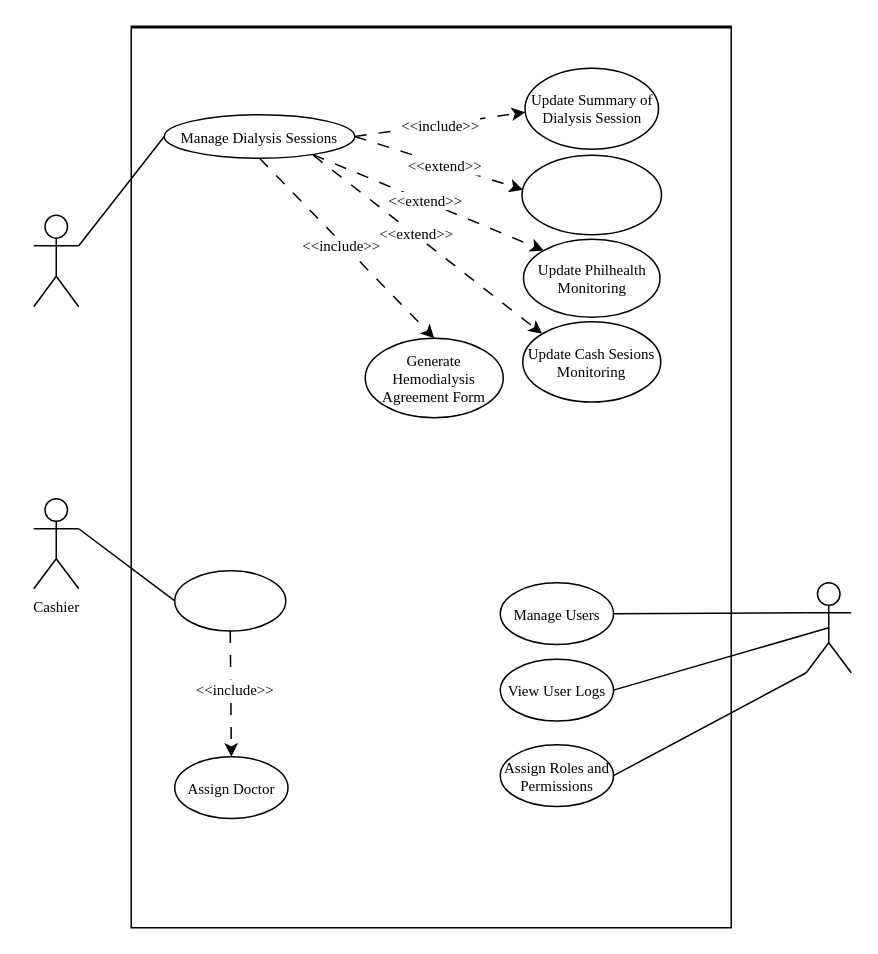
This 878x954 diagram has some shape labels left out. The centre of each missing label's shape, as x and y in pixels:
Admin: [828,627]
Phic Staff: [55,260]
Register Patient: [229,600]
Update Dialyzer Monitoring: [591,194]
